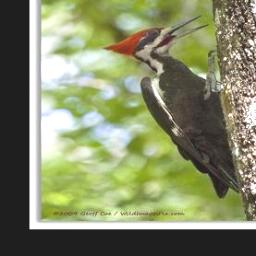Woodpecker: (101, 14, 240, 199)
